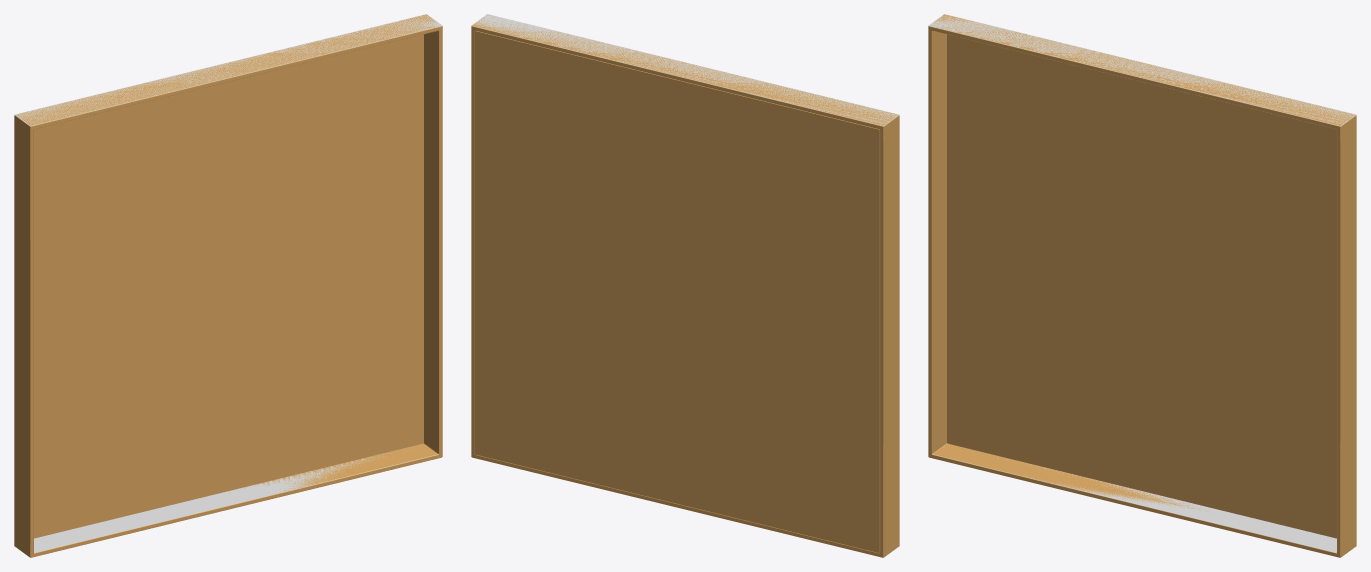
Rendered from box-wall-shelf.glb.
3 renders of one model, left to right at view 1: azimuth 30°, elevation 25°; view 2: azimuth 150°, elevation 25°; view 3: azimuth 330°, elevation 25°, orthographic.
Visible parts, largest first — view 1: __X_BACK__, __X_BODY__, __TOP__outer, __TOP__.inner; view 2: __X_BACK__, __X_BODY__, __TOP__outer; view 3: __X_BACK__, __X_BODY__, __TOP__outer, __TOP__.inner.
Part boxes in pixels (x1,y1,x2,y2): __X_BACK__: [34, 34, 423, 538]; __X_BODY__: [14, 14, 442, 557]; __TOP__outer: [14, 14, 442, 126]; __TOP__.inner: [34, 450, 438, 552]; __X_BACK__: [475, 31, 879, 552]; __X_BODY__: [471, 15, 899, 557]; __TOP__outer: [471, 14, 899, 126]; __X_BACK__: [947, 34, 1336, 538]; __X_BODY__: [928, 14, 1356, 557]; __TOP__outer: [928, 14, 1356, 126]; __TOP__.inner: [932, 454, 1336, 552].
Bounding box in the file's own units: 2.06 × 2.06 × 0.14.
